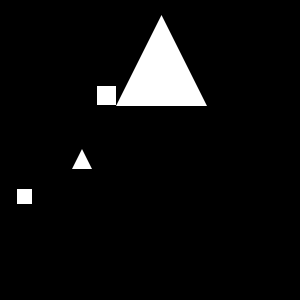circle: (97, 86, 116, 105), (17, 189, 32, 204)
triangle: (116, 15, 207, 106), (72, 149, 92, 169)
